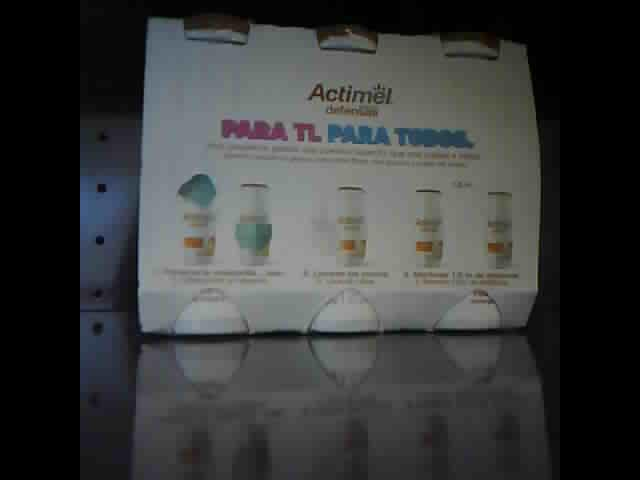alpro: (138, 12, 545, 340)
